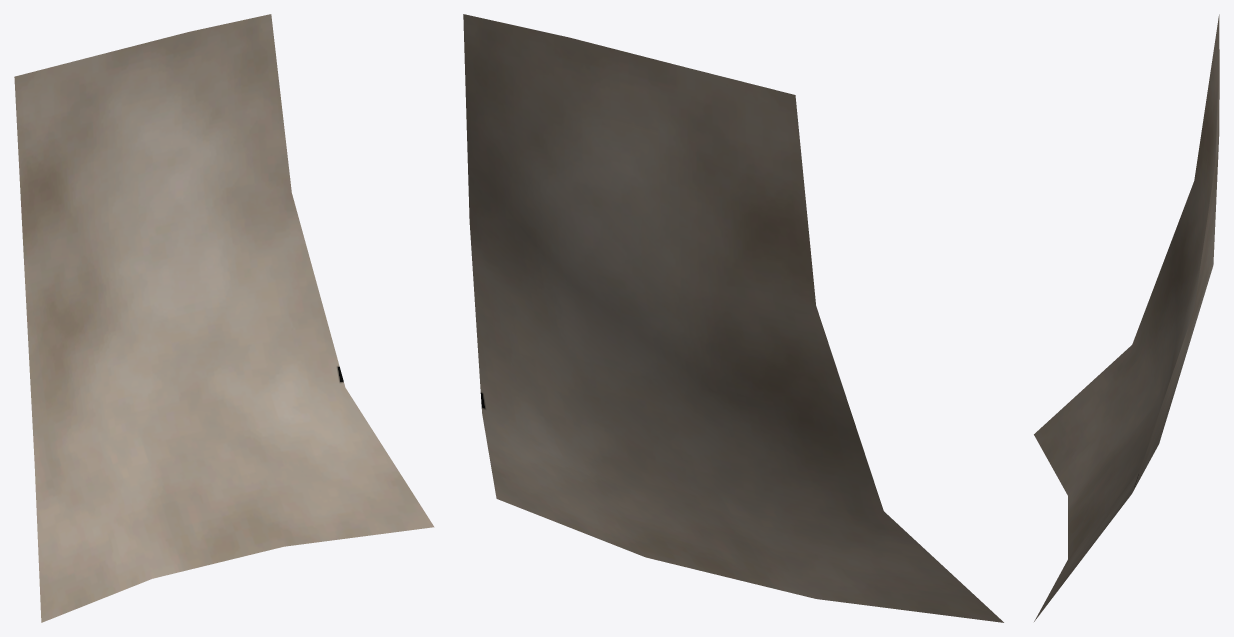
The model's file is web_02.fbx.
3 renders of one model, left to right at view 1: azimuth 30°, elevation 25°; view 2: azimuth 150°, elevation 25°; view 3: azimuth 270°, elevation 25°, orthographic. The views are drawn at different scales.
Parts seen in each view (by area): view 1: mine_tileset/mine_web01_mat; view 2: mine_tileset/mine_web01_mat; view 3: mine_tileset/mine_web01_mat.
Boxes of the visible parts, x1,y1,x2,y2 form: mine_tileset/mine_web01_mat: [14, 14, 434, 622]; mine_tileset/mine_web01_mat: [463, 14, 1003, 622]; mine_tileset/mine_web01_mat: [1034, 14, 1219, 621].
Size of the model in its own units: 6.86 by 7.72 by 2.86.
